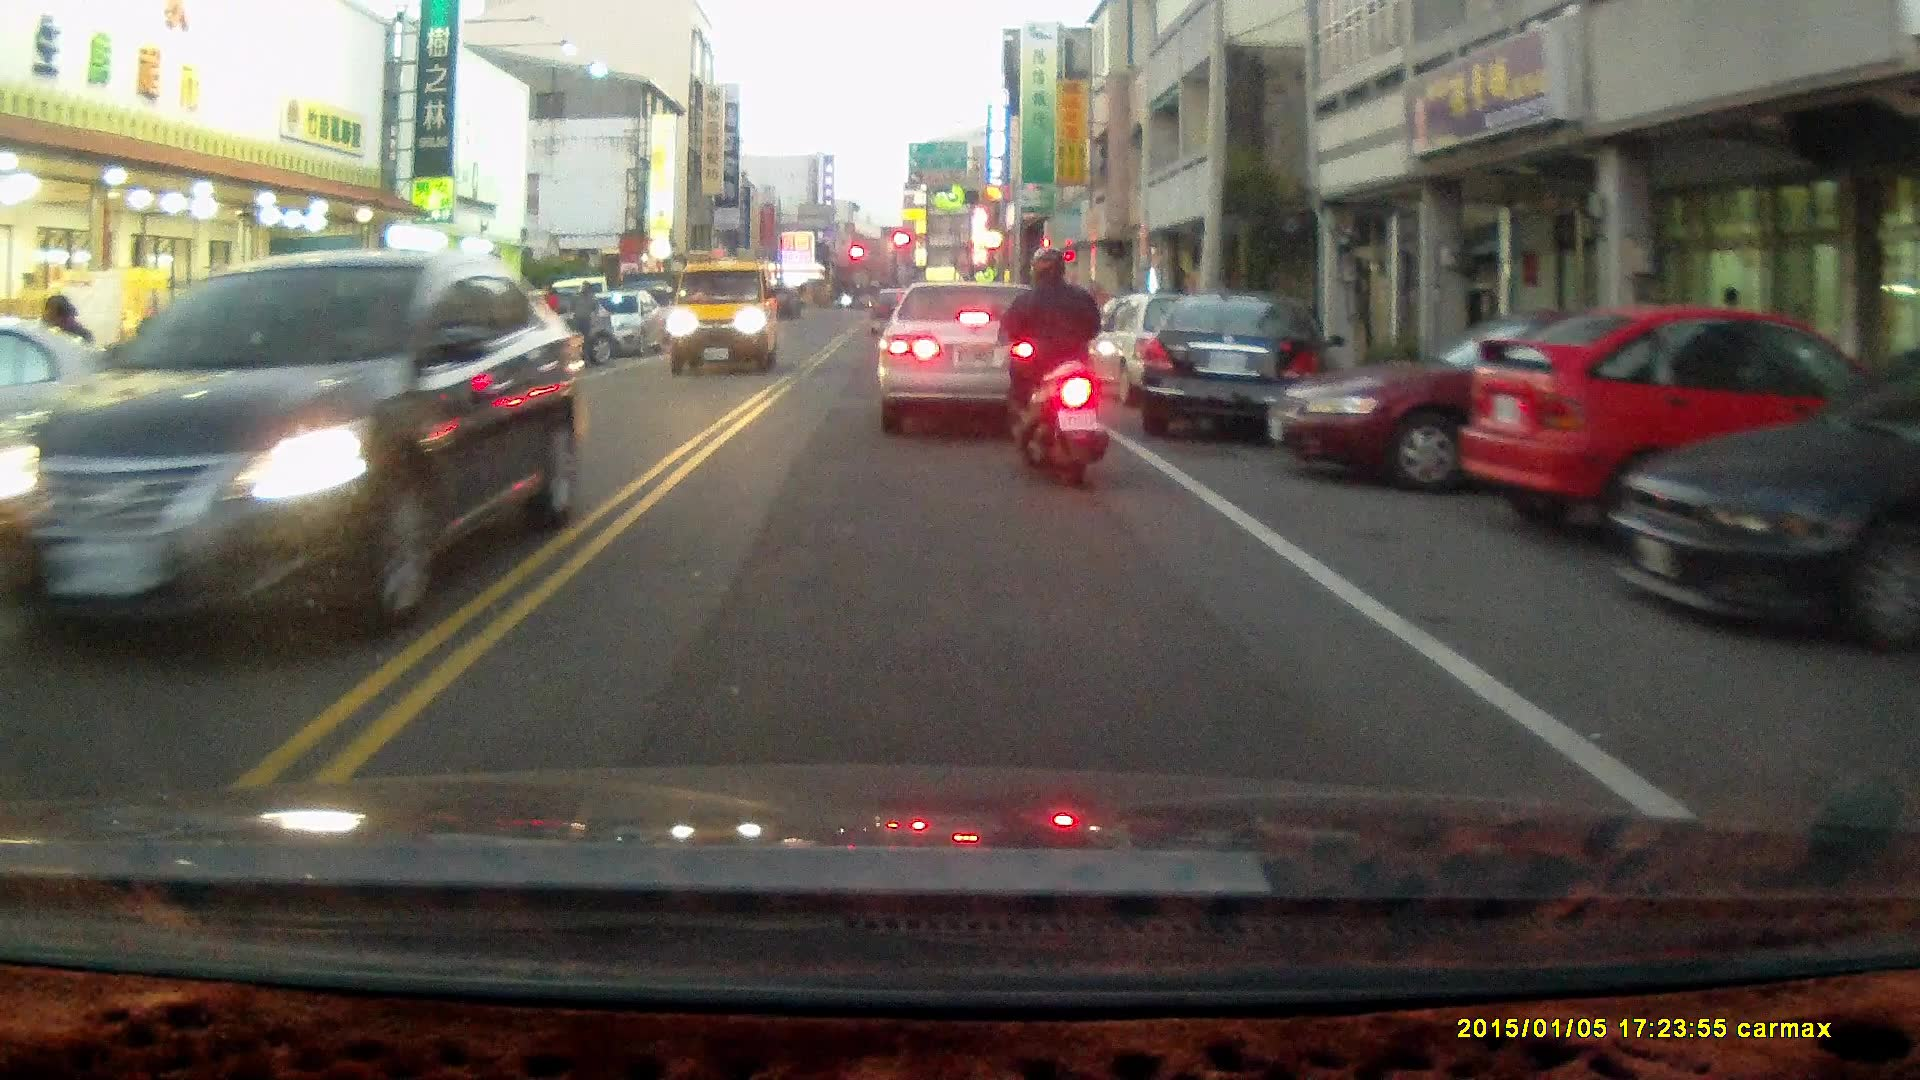pedestrian: (568, 280, 601, 372)
rider: (989, 247, 1117, 491)
vehicle: (1, 248, 589, 647), (1602, 335, 1920, 655), (1458, 305, 1861, 556), (1268, 306, 1728, 494), (1, 316, 217, 506), (1130, 293, 1323, 440), (875, 277, 1059, 425), (666, 258, 777, 376)
